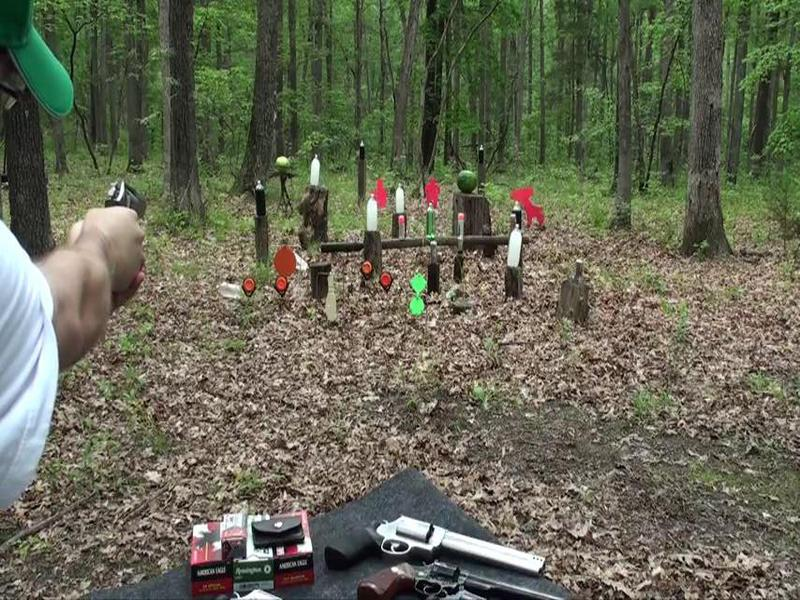Revolver: (89, 176, 174, 224)
